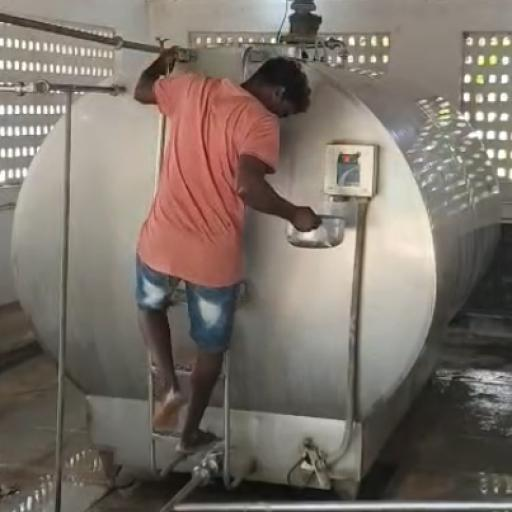silo: (113, 39, 505, 486), (11, 50, 159, 446)
vessel: (284, 214, 347, 249)
